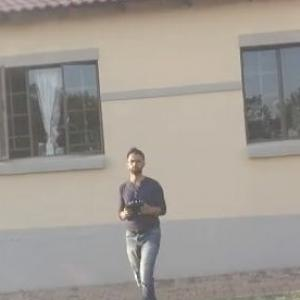follow: (115, 139, 173, 299)
